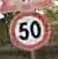limite 50: (7, 10, 51, 51)
